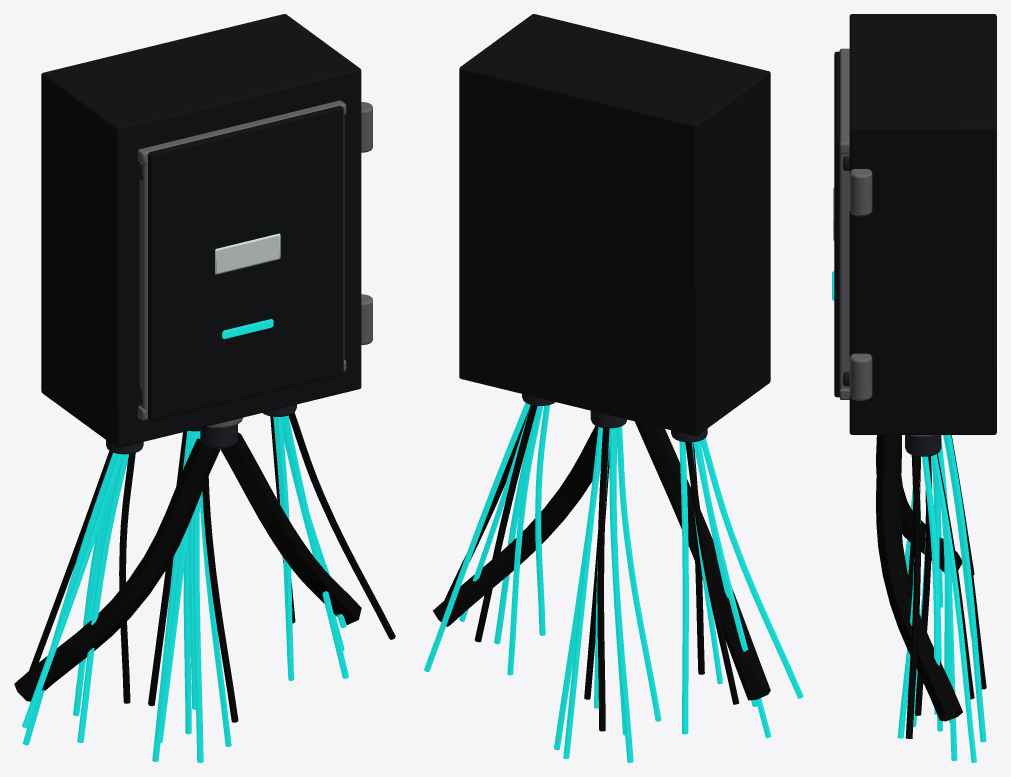
File: fiber_box.glb
The picture shows the model from 3 angles, left to right: view 1: azimuth 30°, elevation 25°; view 2: azimuth 150°, elevation 25°; view 3: azimuth 270°, elevation 25°; orthographic projection. The views are drawn at different scales.
Visible parts, largest first — view 1: Box, Conduit, Fibers; view 2: Box, Fibers, Conduit; view 3: Box, Conduit, Fibers.
Boxes of the visible parts, x1,y1,x2,y2 form: Box: [41, 14, 372, 454]; Conduit: [14, 412, 395, 722]; Fibers: [22, 415, 348, 762]; Box: [459, 14, 770, 442]; Fibers: [424, 402, 803, 762]; Conduit: [433, 405, 770, 731]; Box: [833, 14, 996, 456]; Conduit: [876, 435, 986, 738]; Fibers: [897, 435, 986, 762].
Bounding box in the file's own units: 0.7293 × 1.31 × 0.291.
